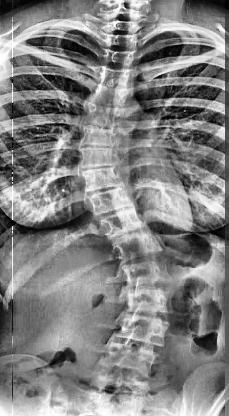Vertebrae: (92, 362, 152, 396), (96, 344, 158, 372), (100, 210, 148, 240), (130, 284, 176, 312), (116, 230, 162, 258), (88, 190, 134, 218), (117, 318, 169, 342), (126, 260, 171, 286), (83, 102, 125, 128), (80, 144, 118, 170), (80, 168, 122, 191), (80, 126, 121, 148), (90, 86, 130, 108), (102, 68, 134, 90), (106, 51, 136, 72), (110, 34, 138, 51)
